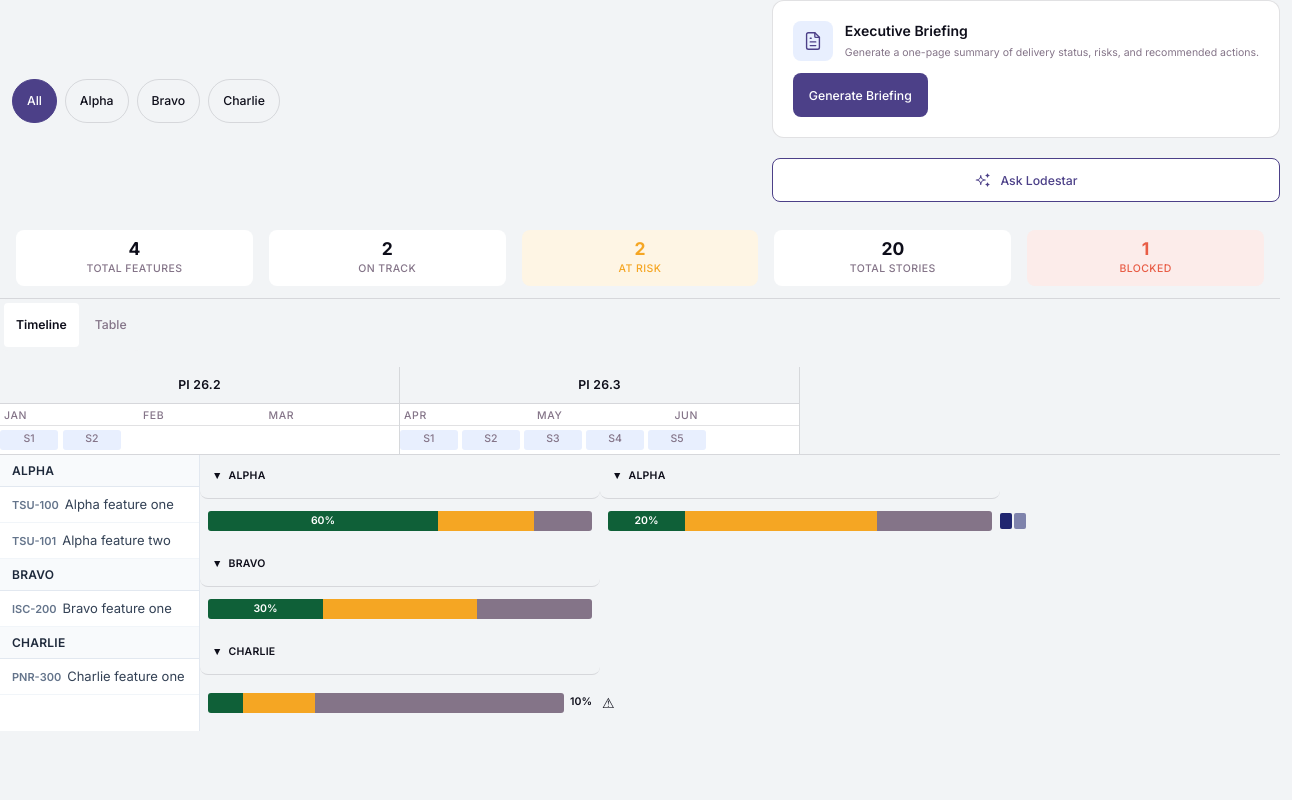
Test: RoadmapPage integration › Filter interactions update TeamGroup visibility and SummaryStrip KPIs › updates SummaryStrip KPIs when team filter changes to Alpha
The image size is (1292, 800).
Expected: the element named "Program KPI summary" is shown, 0,218 -> 1280,299
Expected: the text "4" is shown, 128,238 -> 140,259
# Click "Alpha" filter within toolbar
What coordinates should you click on to do the following:
click the button "Alpha"
I would click on:
 (97, 101)
Its box is 65,79 -> 129,123.
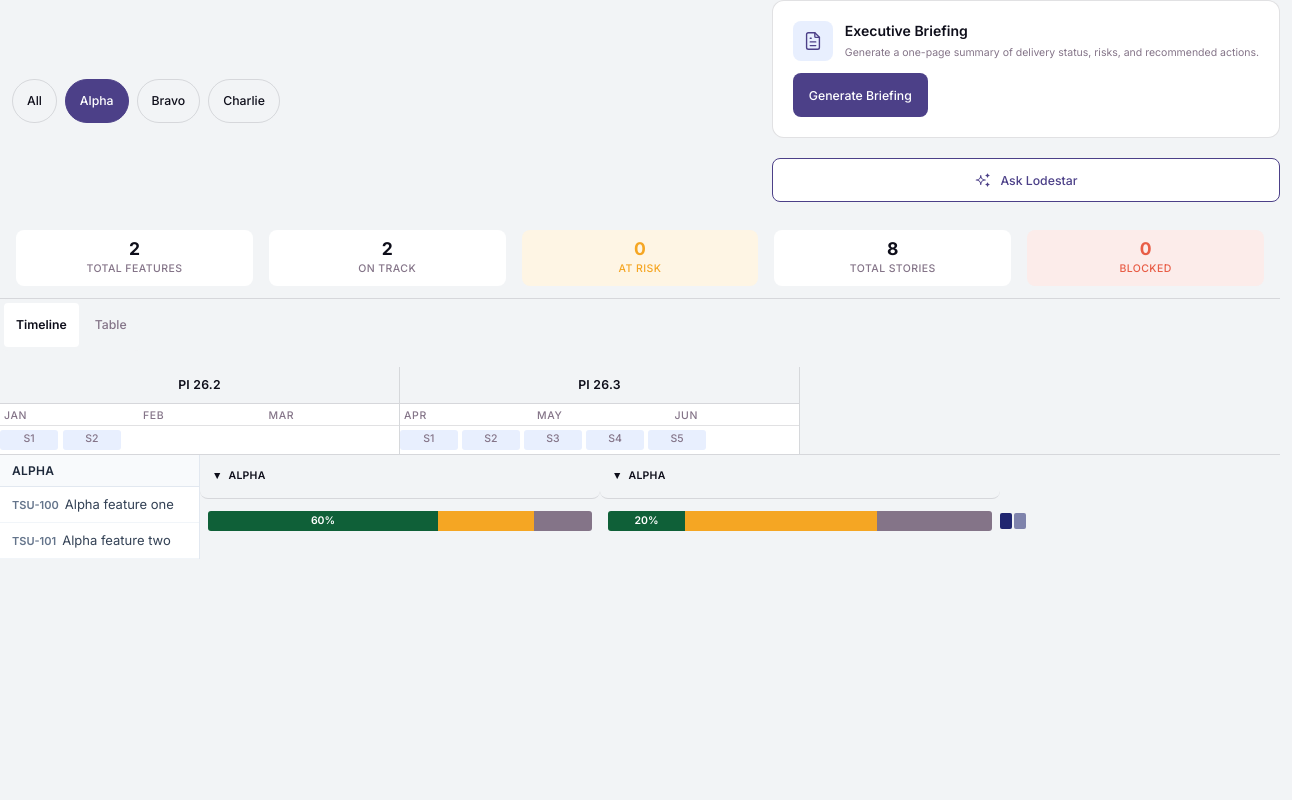
Now the 1st text "2" is shown, box 129,238 -> 140,259
Now the 2nd text "0" is shown, box 1140,238 -> 1152,259
